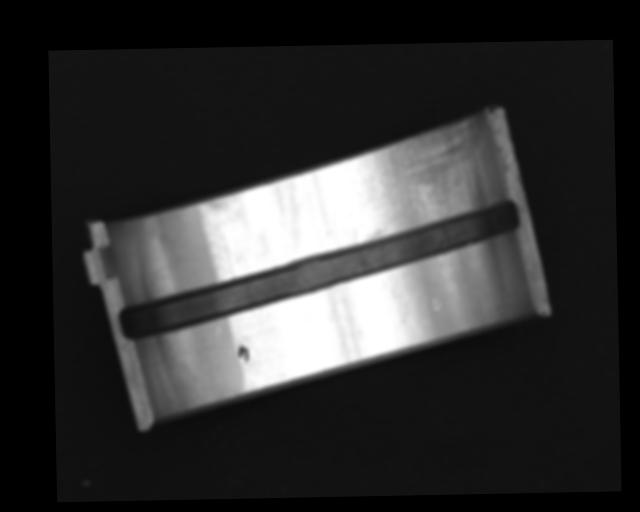blot: (235, 344, 251, 365)
bruise: (430, 298, 440, 311)
gap: (116, 203, 520, 340)
nick: (219, 235, 233, 281)
scratch: (361, 116, 485, 241)
